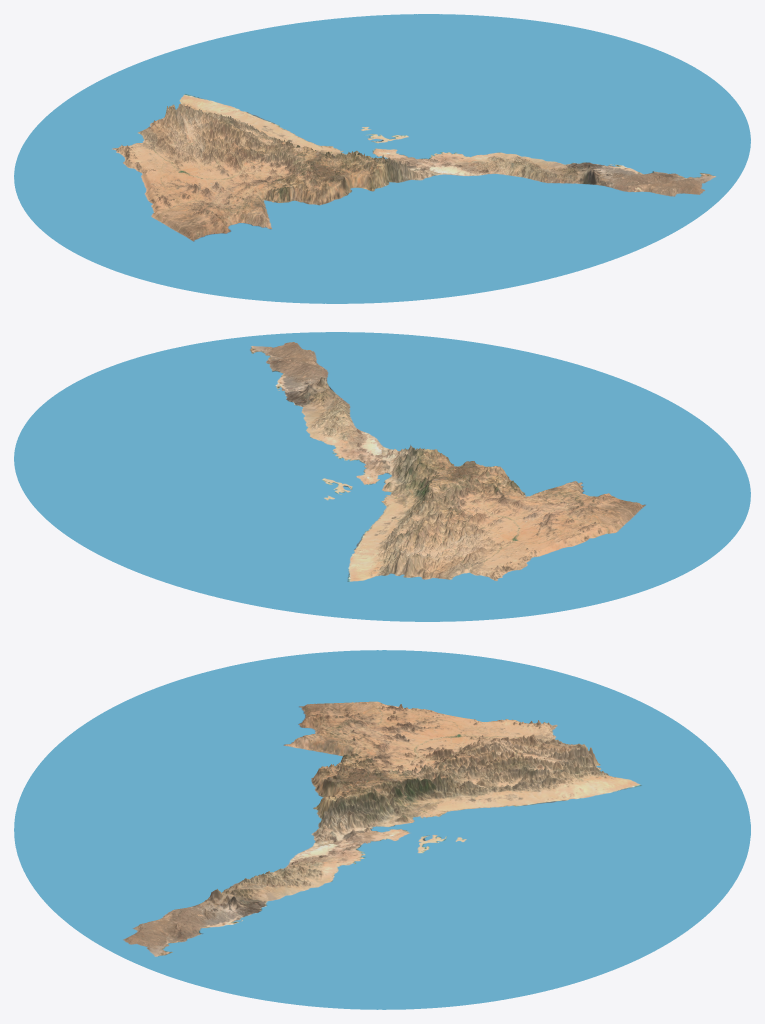
Rendered from ERI-previa-terrain.glb.
The picture shows the model from 3 angles, top to bottom: view 1: azimuth 30°, elevation 25°; view 2: azimuth 150°, elevation 25°; view 3: azimuth 270°, elevation 25°; orthographic projection. The views are drawn at different scales.
Visible parts, largest first — view 1: Eritreia; view 2: Eritreia; view 3: Eritreia.
Part boxes in pixels (box(x1,y1,x2,y2)): Eritreia: box(14, 14, 750, 303); Eritreia: box(14, 332, 750, 621); Eritreia: box(14, 650, 750, 1009).
Bounding box in the file's own units: 2.51 × 0.074 × 2.17.
Materials: 1 (1 with a texture image).
